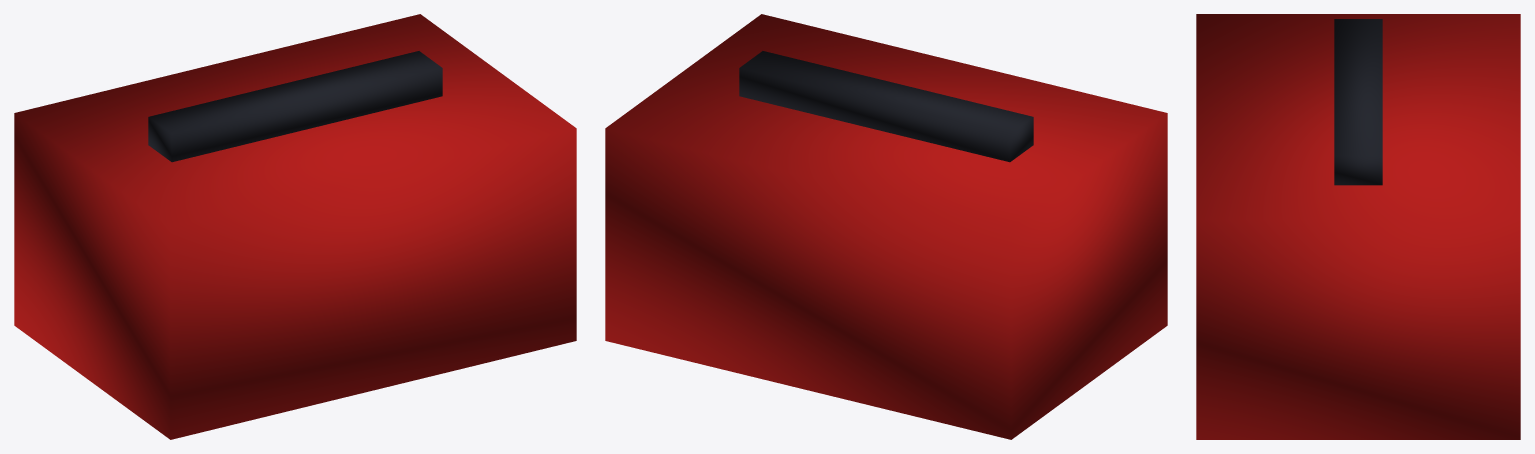
3 renders of one model, left to right at view 1: azimuth 30°, elevation 25°; view 2: azimuth 150°, elevation 25°; view 3: azimuth 270°, elevation 25°, orthographic. The views are drawn at different scales.
Visible parts, largest first — view 1: Part_000, Part_003; view 2: Part_000, Part_003; view 3: Part_000, Part_003.
Part boxes in pixels (x1,y1,x2,y2): Part_000: (14,14,576,439); Part_003: (148,51,442,162); Part_000: (605,14,1167,439); Part_003: (739,51,1033,162); Part_000: (1196,14,1520,439); Part_003: (1334,19,1382,185).
Size of the model in its own units: 0.006 by 0.004 by 0.0035.
